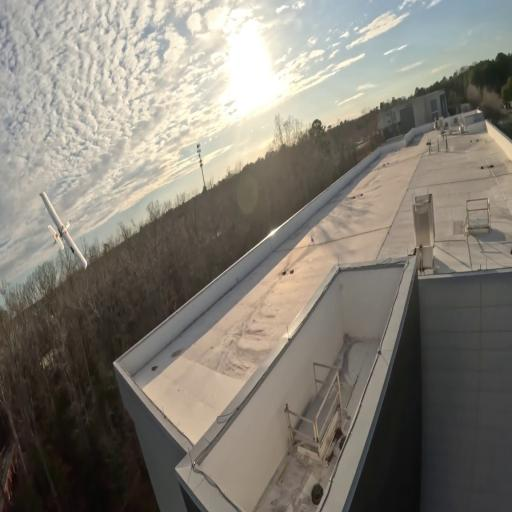uav: (30, 184, 96, 274)
